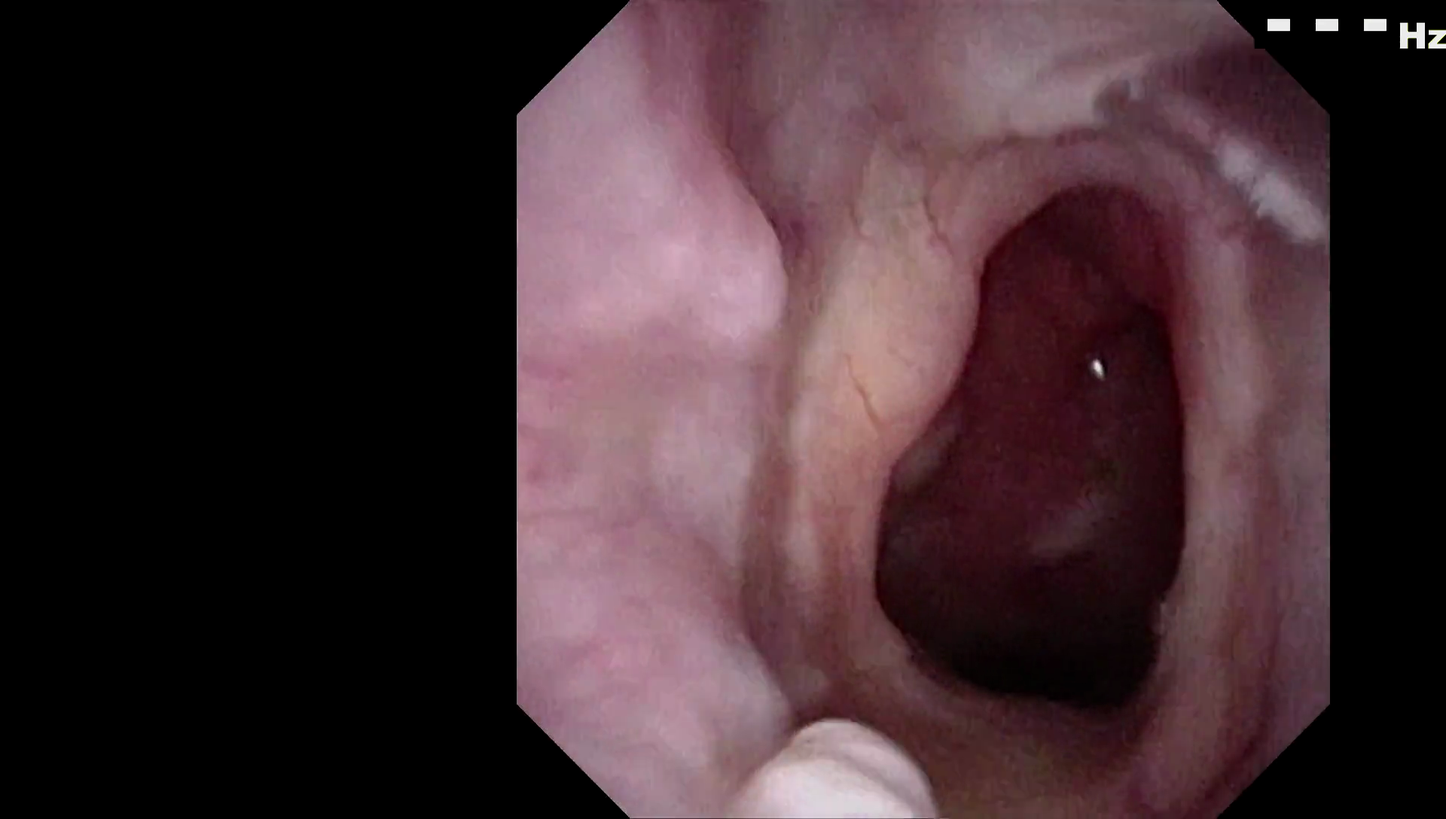next: (853, 476, 1227, 739)
